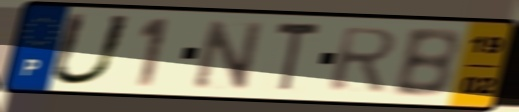1: (136, 16, 173, 89)
B: (389, 26, 463, 100)
N: (191, 17, 267, 91)
R: (326, 26, 402, 94)
T: (273, 19, 325, 96)
U: (44, 10, 137, 88)
